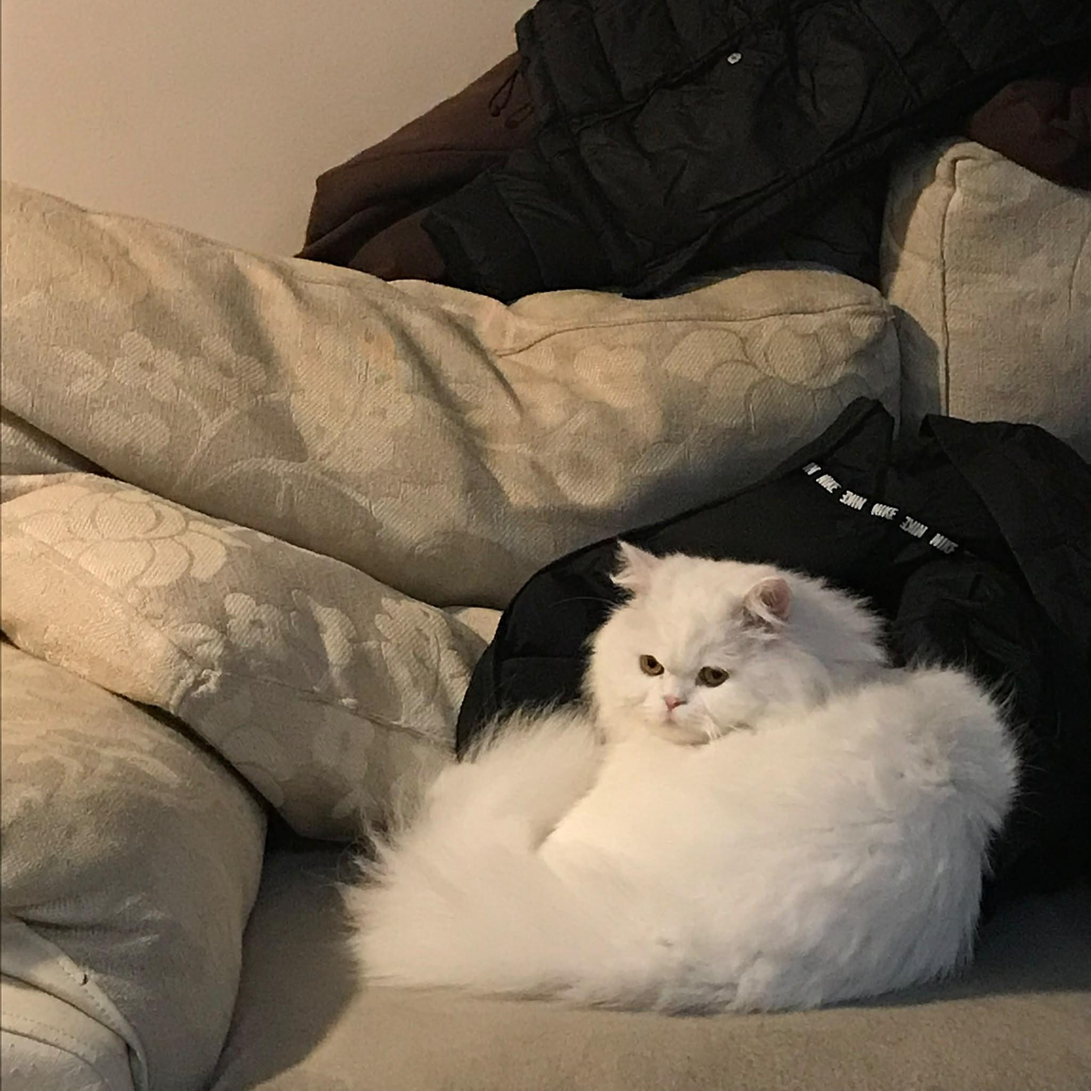macka: (346, 536, 1023, 1015)
